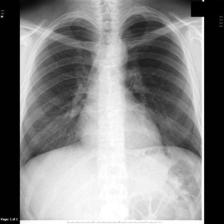tuberculosis: (18, 13, 204, 189)
